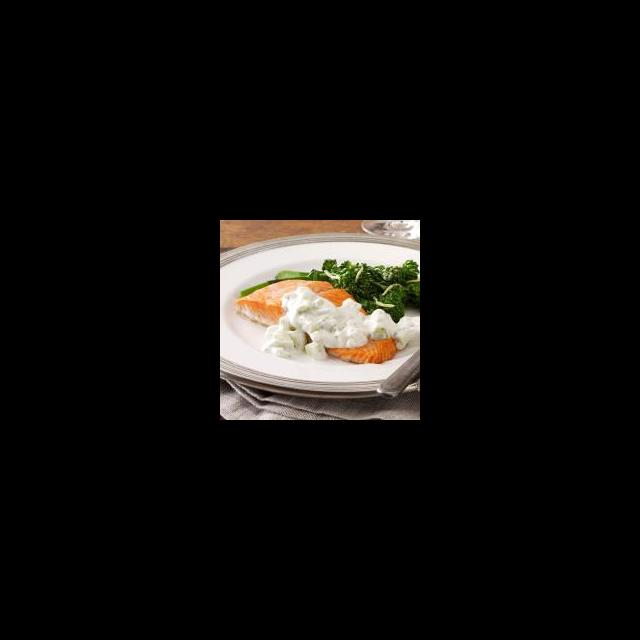ca hoi: (232, 275, 398, 365)
